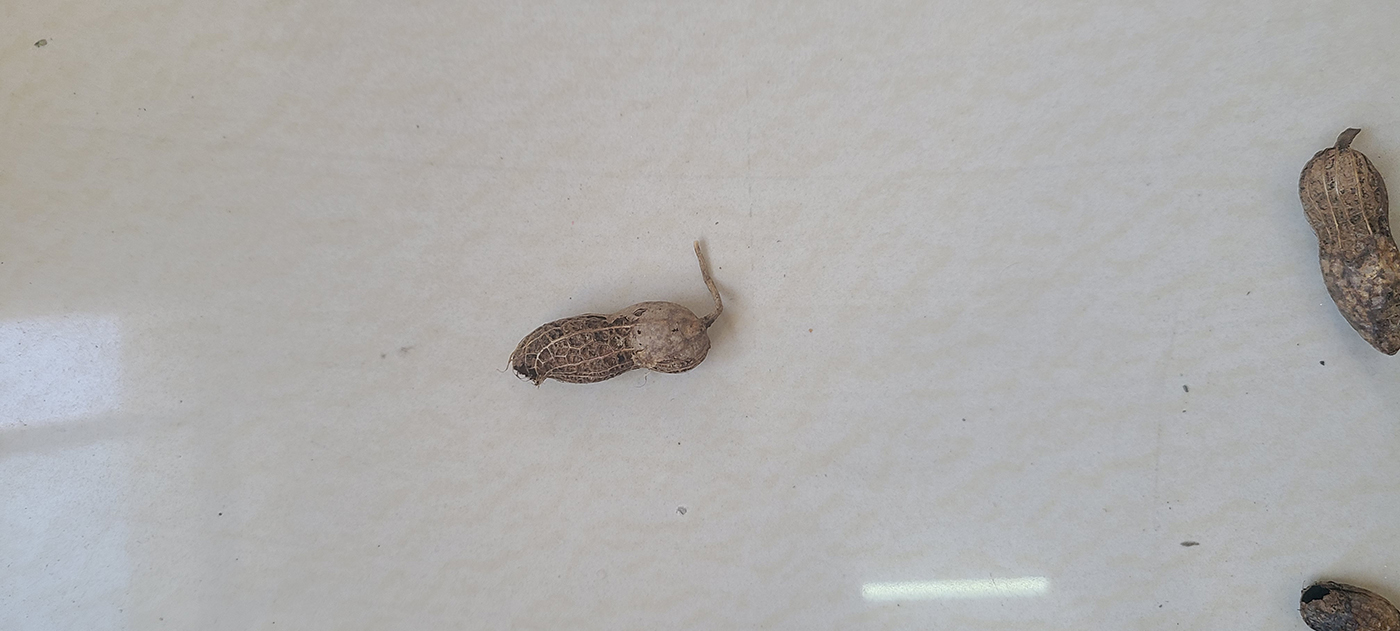l: (507, 299, 713, 385)
